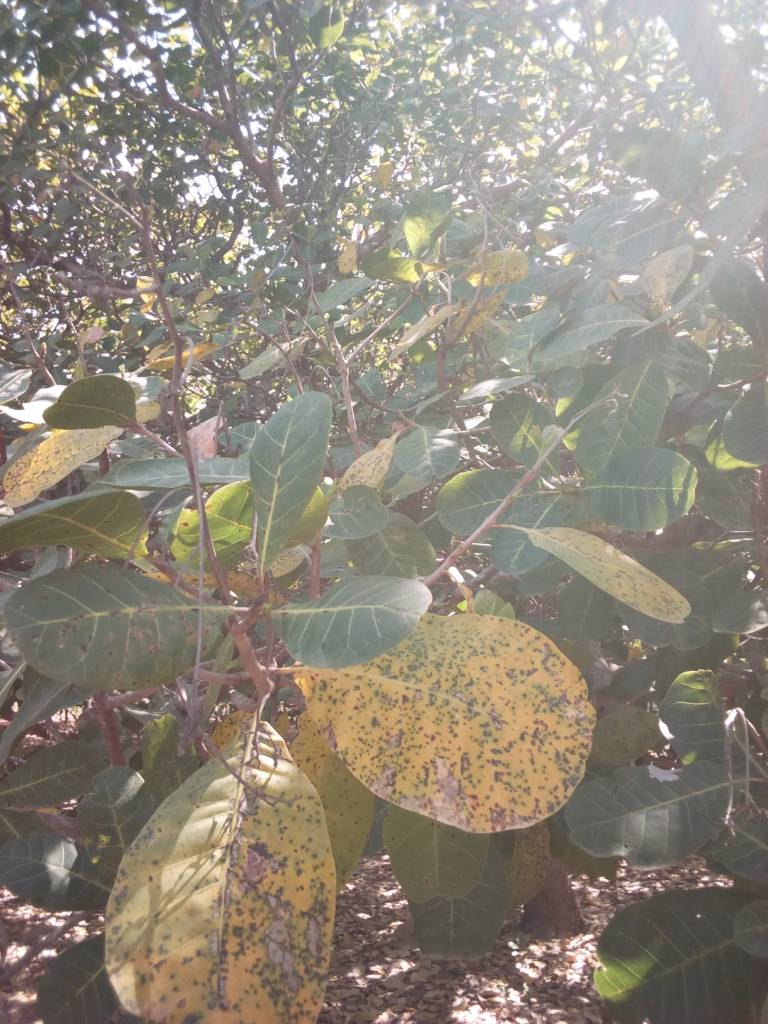Anthracnose: (100, 739, 336, 1024), (310, 621, 594, 839), (524, 517, 690, 625)
